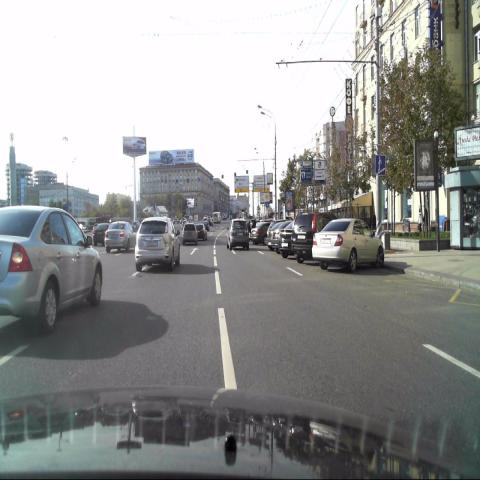6_6: (375, 156, 385, 177)
